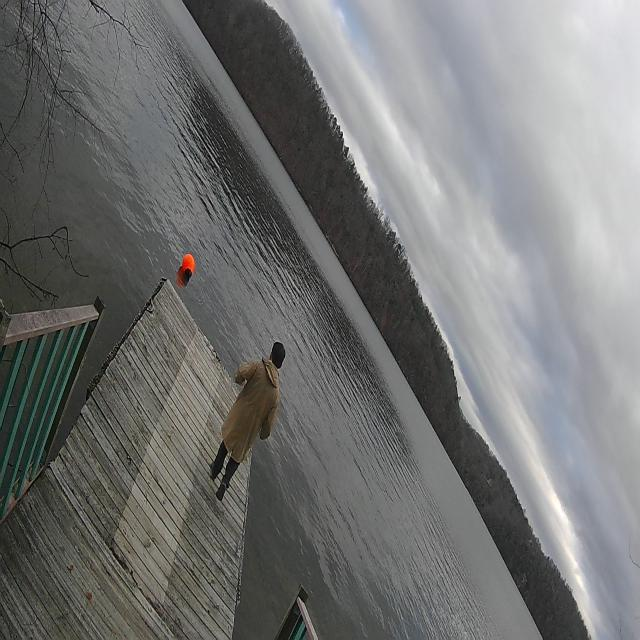Buoy: (180, 247, 197, 288)
